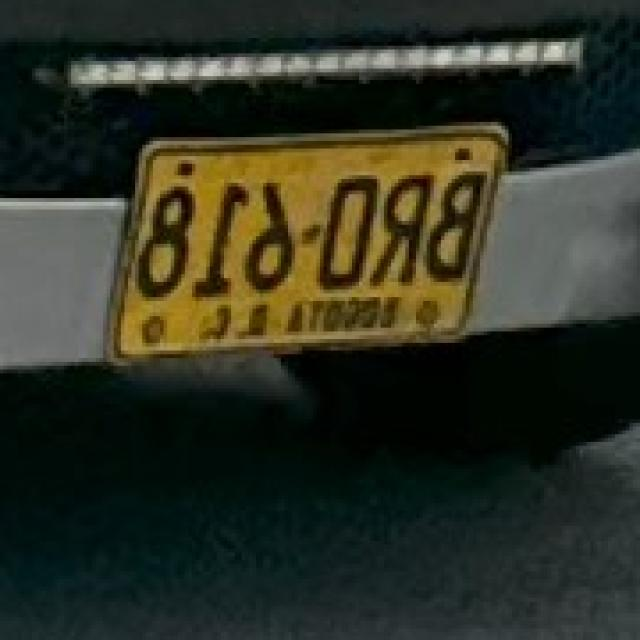number plate: (121, 118, 512, 350)
